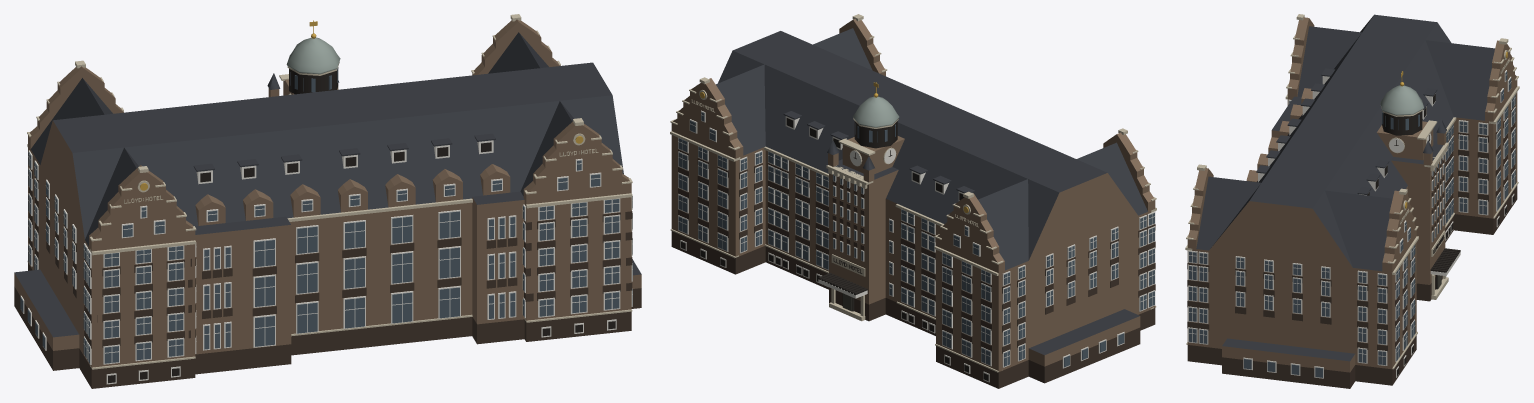
Rendered from lloyd-hotel.glb.
3 renders of one model, left to right at view 1: azimuth 30°, elevation 25°; view 2: azimuth 150°, elevation 25°; view 3: azimuth 270°, elevation 25°, orthographic. The views are drawn at different scales.
Parts seen in each view (by area): view 1: lloyd-hotel; view 2: lloyd-hotel; view 3: lloyd-hotel.
Part boxes in pixels (x1,y1,x2,y2): lloyd-hotel: [14, 14, 641, 388]; lloyd-hotel: [670, 14, 1156, 388]; lloyd-hotel: [1185, 14, 1519, 388].
Size of the model in its own units: 62.91 by 28.8 by 40.65.
